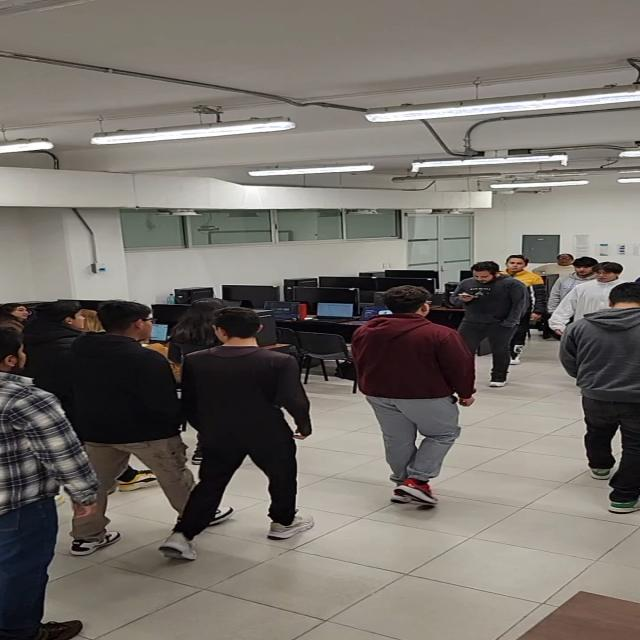Persona: (55, 298, 234, 556), (160, 306, 318, 562), (0, 324, 105, 640), (344, 283, 476, 506), (557, 281, 640, 514), (451, 262, 529, 388), (549, 262, 629, 342), (498, 254, 550, 365), (548, 258, 596, 316)
